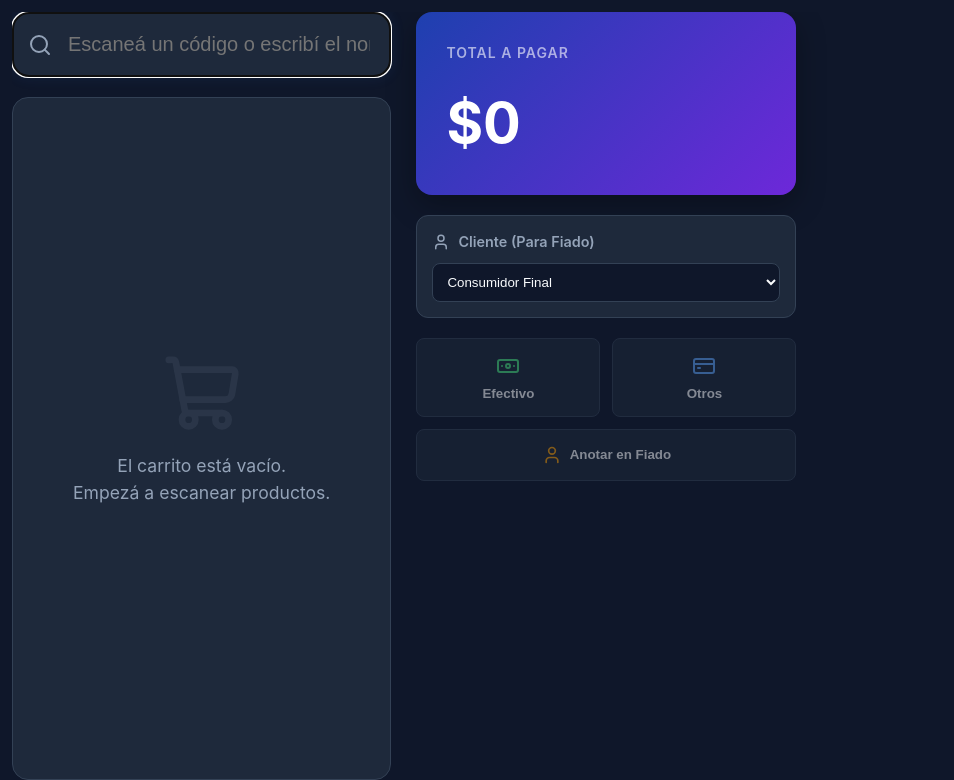
it: Ventas – debounce search on input change › clicking a dropdown result adds product to cart
The width and height of the screenshot is (954, 780).
In the field with placeholder "Escaneá un código o escribí el nombre... (Enter)": (202, 44) [12, 12, 391, 77], type "Alf"
Wait 350 ms
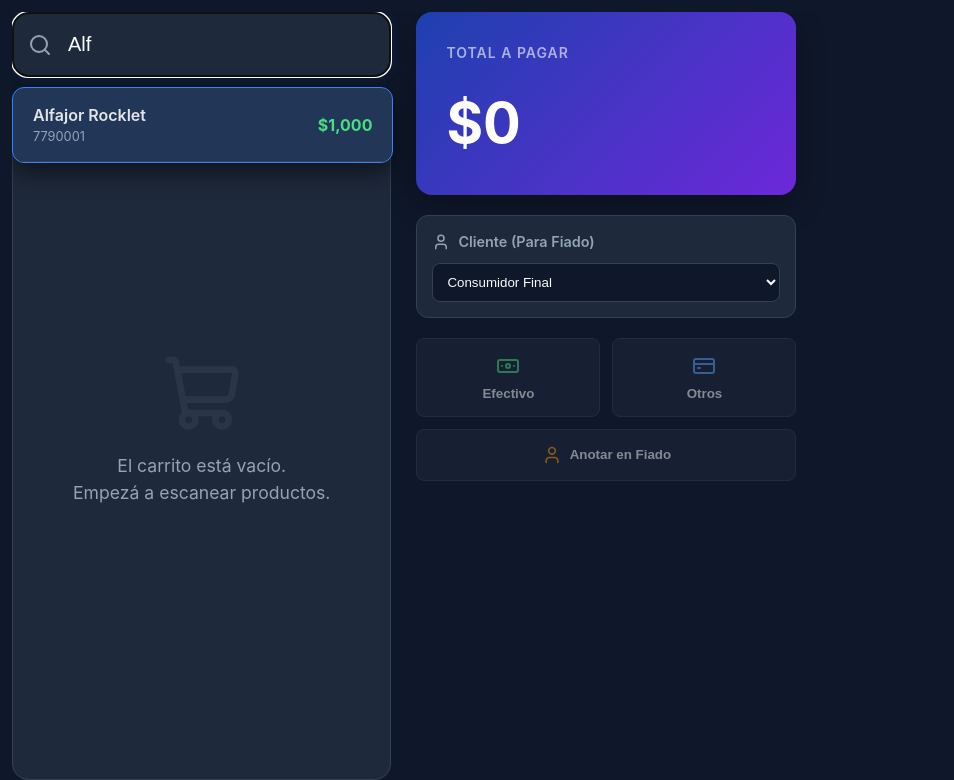
Result: the text "Alfajor Rocklet" is shown
Click the text "Alfajor Rocklet": (90, 115) [33, 103, 146, 127]
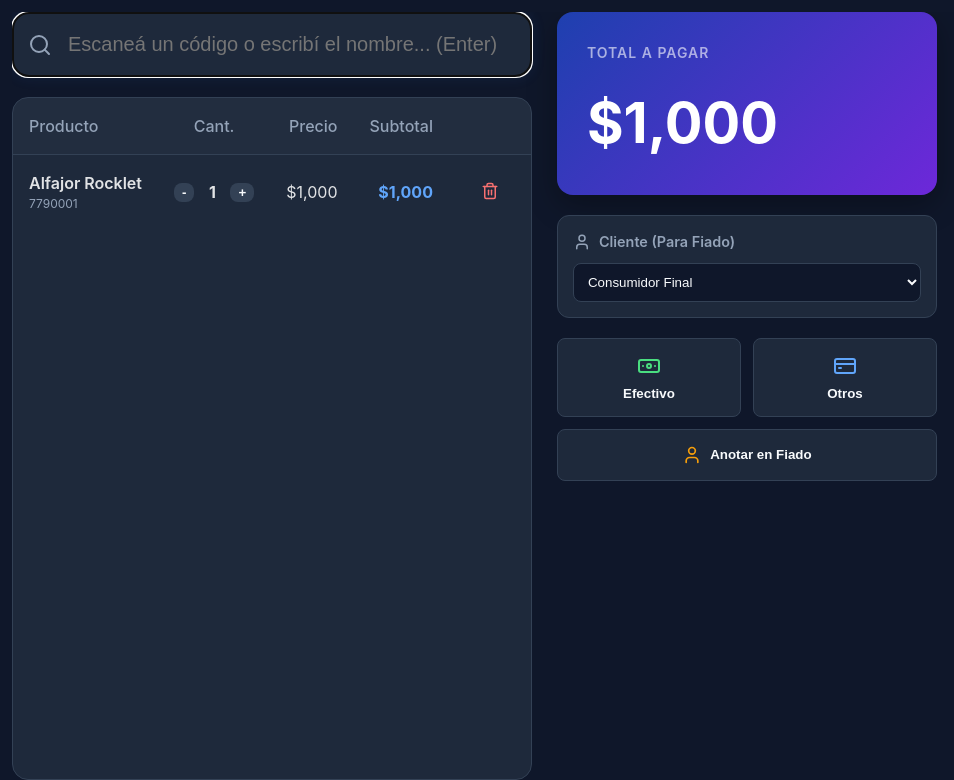
Result: the text "Alfajor Rocklet" is shown once at [29, 171, 142, 195]
